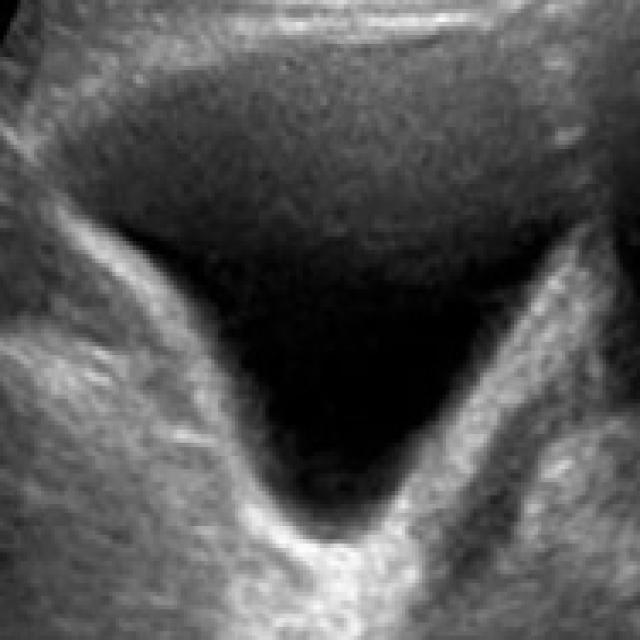bladder: (21, 0, 597, 606)
